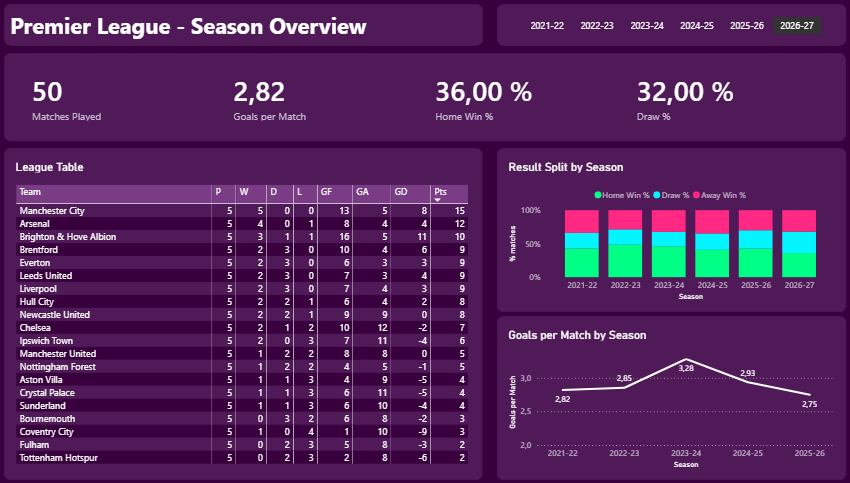

The dashboard page shown, as its layout file describes it:
{"tool":"powerbi","page":{"name":"League Overview","canvas":[1280,720],"ordinal":0},"visuals":[{"type":"cardVisual","fields":{"Data":["_Measures.Matches","_Measures.Goals per Match","_Measures.% Home Wins","_Measures.% Draws"]},"box":[23.4,87.8,1232.2,128.8],"z":0},{"type":"slicer","title":"Season","fields":{"Values":["Dim_Date.Season"]},"box":[744.9,16.1,510.7,61.5],"z":1000},{"type":"textbox","box":[23.4,16.1,701,61],"z":2000},{"type":"tableEx","title":"League Table","fields":{"Values":["teams.team","_Measures.Played Matches","_Measures.Wins","_Measures.Draws","_Measures.Losses","_Measures.Goals For","_Measures.Goals Against","_Measures.Goal Difference","_Measures.Points"]},"box":[23.4,226.8,700,485.9],"z":3000},{"type":"hundredPercentStackedColumnChart","title":"Result Split by Season","fields":{"Category":["Dim_Date.Season"],"Y":["_Measures.% Home Wins","_Measures.% Draws","_Measures.% Away Wins"]},"box":[744.9,226.8,510.7,240],"z":4000},{"type":"lineChart","title":"Goals per Match by Season","fields":{"Y":["_Measures.Goals per Match"],"Category":["Dim_Date.Season"]},"box":[744.9,472.7,510.7,240],"z":5000}]}

Visuals, with their boxes in screenshot pixels (x1, y1, x2, y2), scaled from the page's 1280x720 canvas onto the 850x483 screenshot:
cardVisual - _Measures.Matches x _Measures.Goals per Match: bbox=(16, 59, 834, 145)
"Season" slicer: bbox=(495, 11, 834, 52)
textbox: bbox=(16, 11, 481, 52)
"League Table" tableEx: bbox=(16, 152, 480, 478)
"Result Split by Season" hundredPercentStackedColumnChart: bbox=(495, 152, 834, 313)
"Goals per Match by Season" lineChart: bbox=(495, 317, 834, 478)
